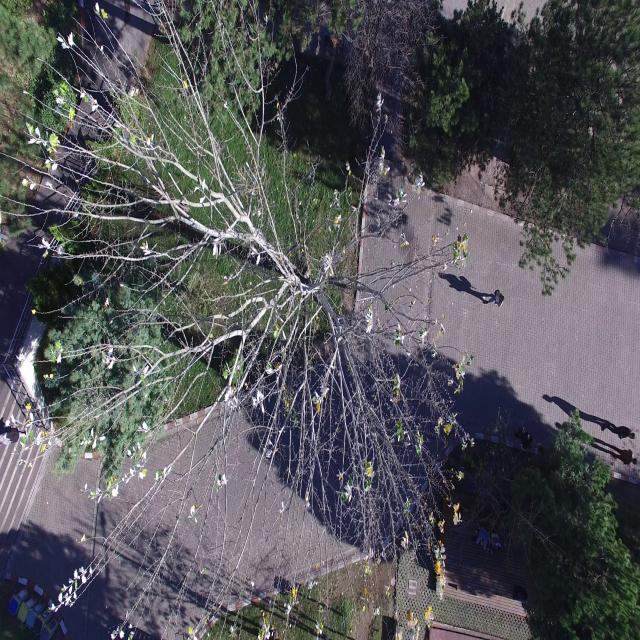p3rson: (602, 420, 636, 440), (0, 423, 27, 445), (610, 445, 638, 465), (513, 426, 533, 450), (474, 530, 490, 552), (486, 536, 501, 558), (486, 290, 505, 307)
